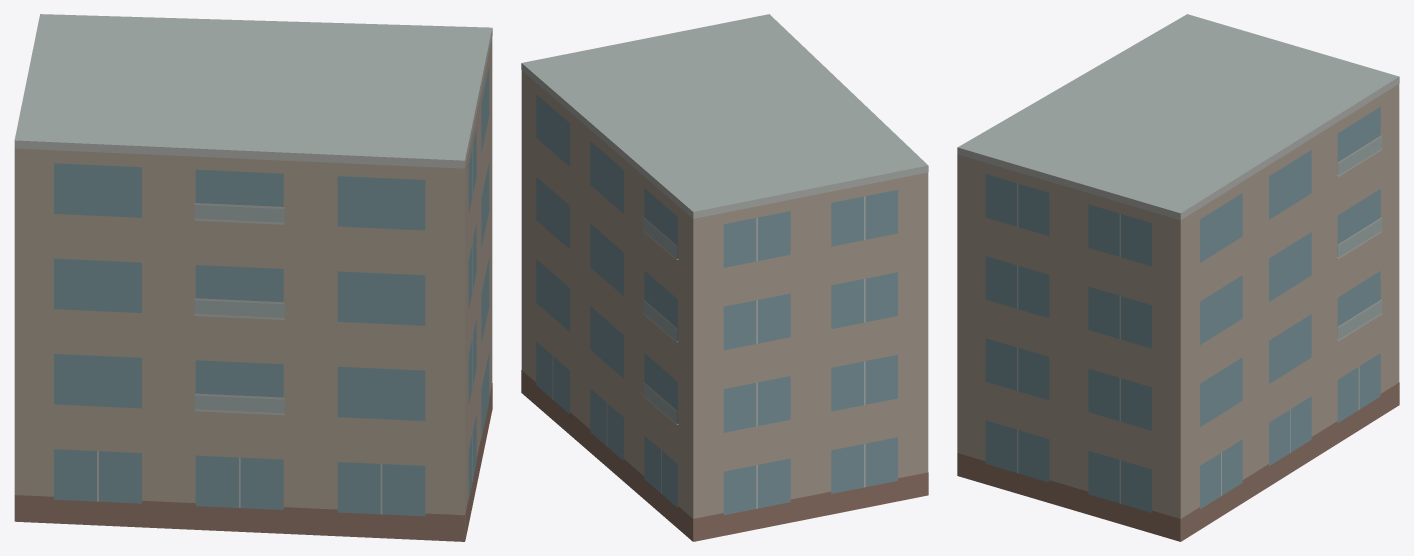
Rendered from survey-upis-32730139.glb.
3 renders of one model, left to right at view 1: azimuth 30°, elevation 25°; view 2: azimuth 150°, elevation 25°; view 3: azimuth 270°, elevation 25°, orthographic. The views are drawn at different scales.
Parts seen in each view (by area): view 1: survey-upis-32730139.tmp; view 2: survey-upis-32730139.tmp; view 3: survey-upis-32730139.tmp.
Part boxes in pixels (x1=…): survey-upis-32730139.tmp: x1=14, y1=14, x2=492, y2=541; survey-upis-32730139.tmp: x1=521, y1=14, x2=928, y2=541; survey-upis-32730139.tmp: x1=957, y1=14, x2=1399, y2=541.
Bounding box in the file's own units: 15.11 × 11.6 × 14.15.
